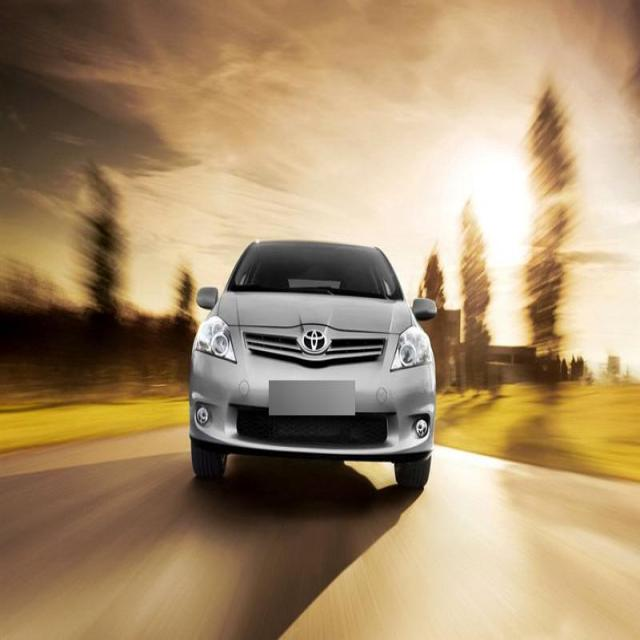front_bumper: (189, 350, 436, 457)
front_glass: (223, 242, 409, 294)
front_left_side_light: (386, 325, 433, 373)
front_left_side_mirror: (411, 290, 441, 324)
front_right_side_light: (192, 314, 240, 367)
front_right_side_mirror: (196, 282, 220, 312)
